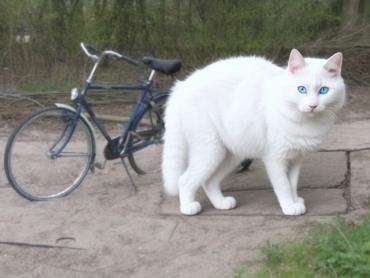bicycle: (4, 41, 192, 202)
cat: (159, 48, 350, 215)
